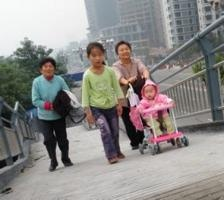person without safety: (32, 56, 74, 173), (82, 40, 115, 161), (112, 39, 140, 78)
